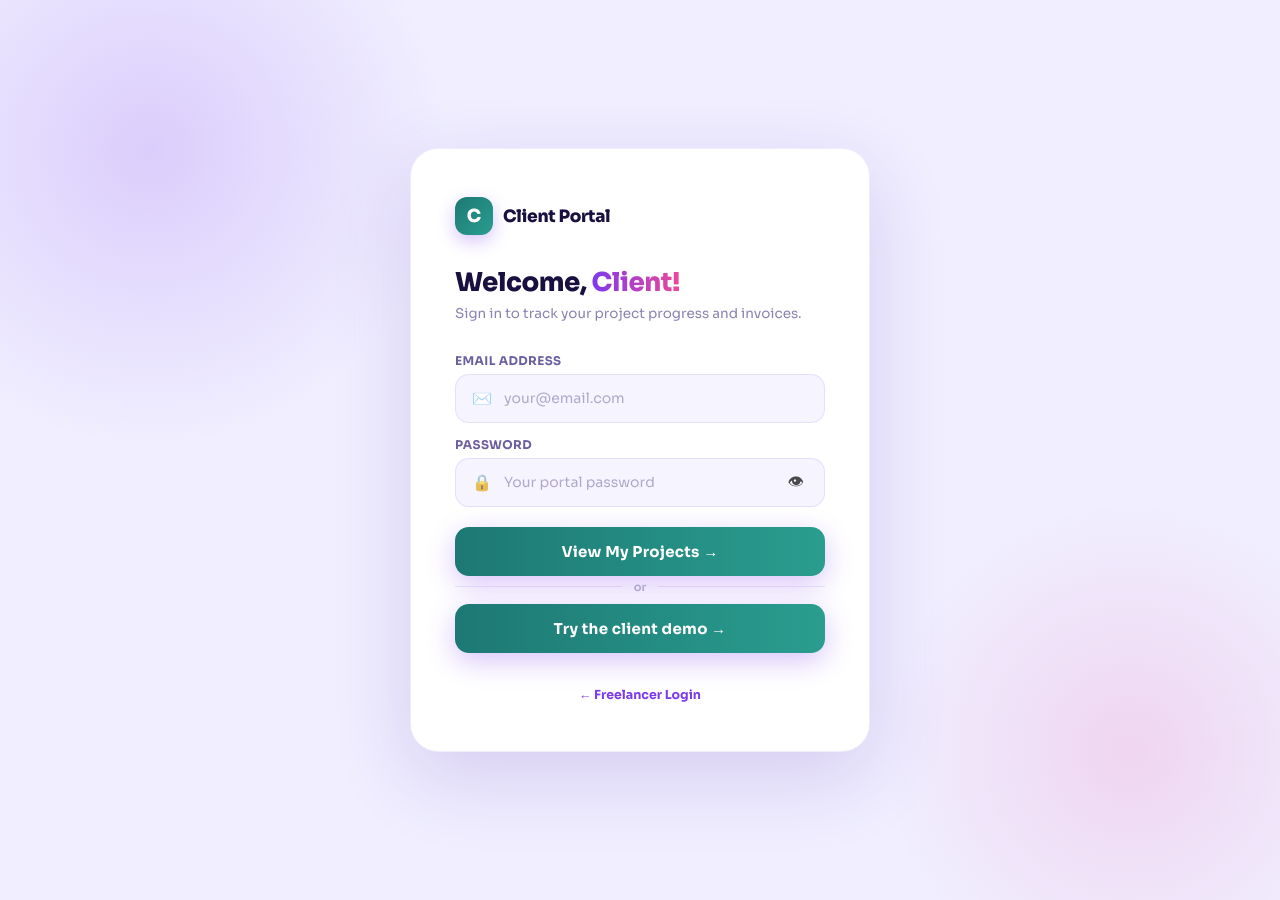
Test: client demo button › client demo unavailable: inline error, no redirect to the freelancer login
Click the button "Try the client demo →": (640,628) [455,604,825,653]
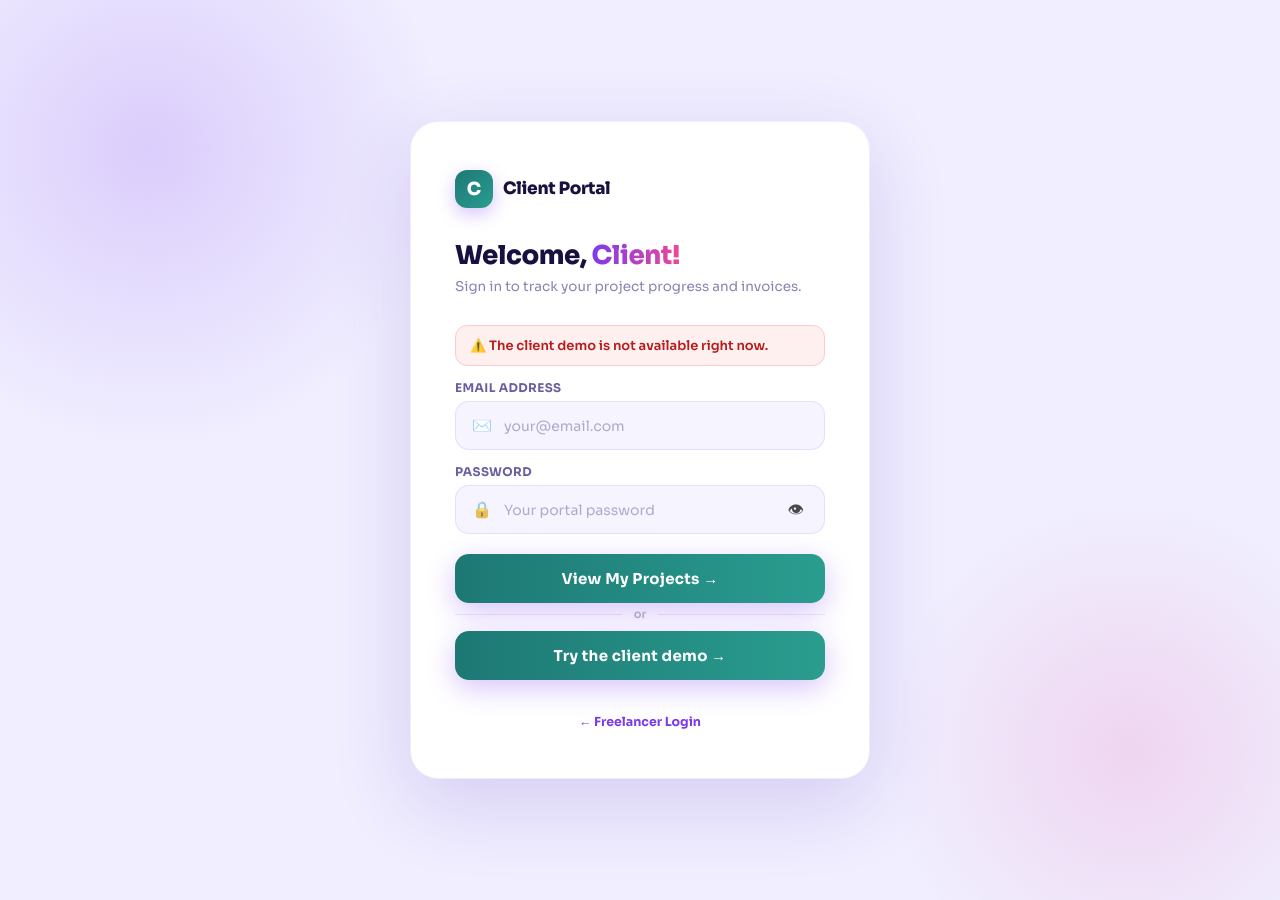
Check: the text "⚠️ The client demo is not available right now." is shown, box [455,325,825,366]
